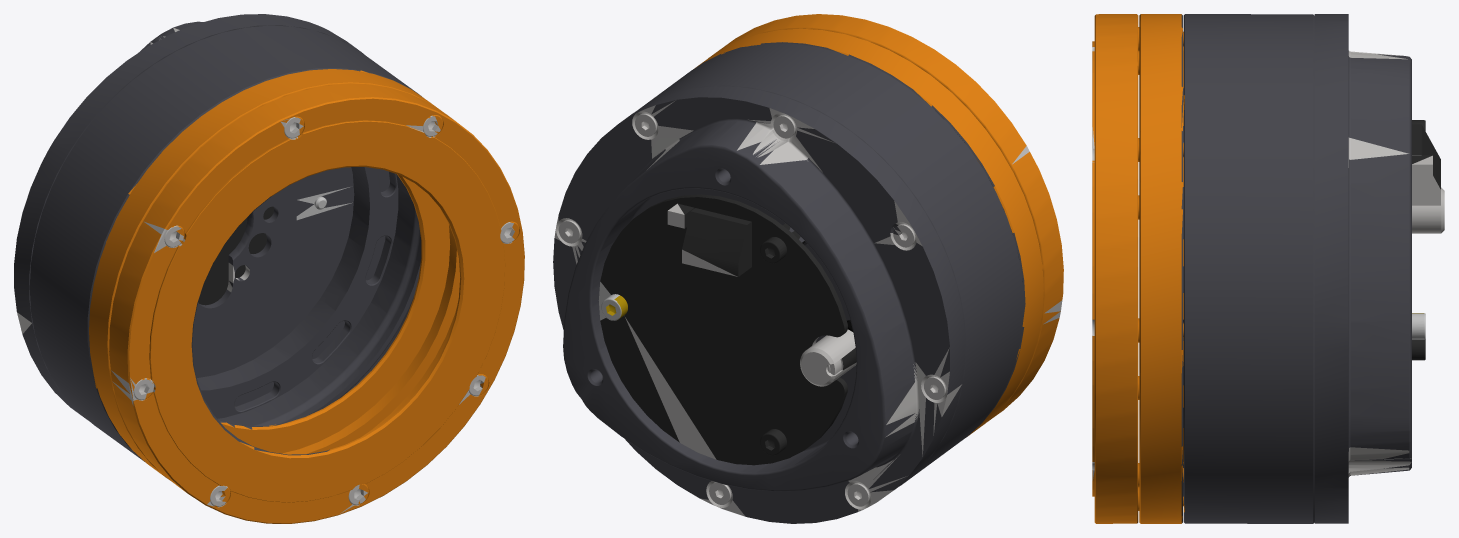
File: motor4.glb
The picture shows the model from 3 angles, left to right: view 1: azimuth 30°, elevation 25°; view 2: azimuth 150°, elevation 25°; view 3: azimuth 270°, elevation 25°; orthographic projection. The views are drawn at different scales.
Parts seen in each view (by area): view 1: m2, m3, m4, m1; view 2: m3, m1, m2, m4; view 3: m3, m2, m4, m1.
Boxes of the visible parts, x1=… form: m2: x1=89, y1=69, x2=524, y2=523; m3: x1=14, y1=14, x2=421, y2=461; m4: x1=17, y1=28, x2=514, y2=513; m1: x1=198, y1=206, x2=273, y2=305; m3: x1=553, y1=42, x2=1025, y2=523; m1: x1=600, y1=194, x2=856, y2=465; m2: x1=694, y1=14, x2=1063, y2=435; m4: x1=554, y1=100, x2=1062, y2=516; m3: x1=1181, y1=14, x2=1411, y2=523; m2: x1=1092, y1=14, x2=1184, y2=523; m4: x1=1092, y1=47, x2=1444, y2=480; m1: x1=1412, y1=120, x2=1440, y2=360.
Size of the model in its own units: 0.105 by 0.105 by 0.0726.
